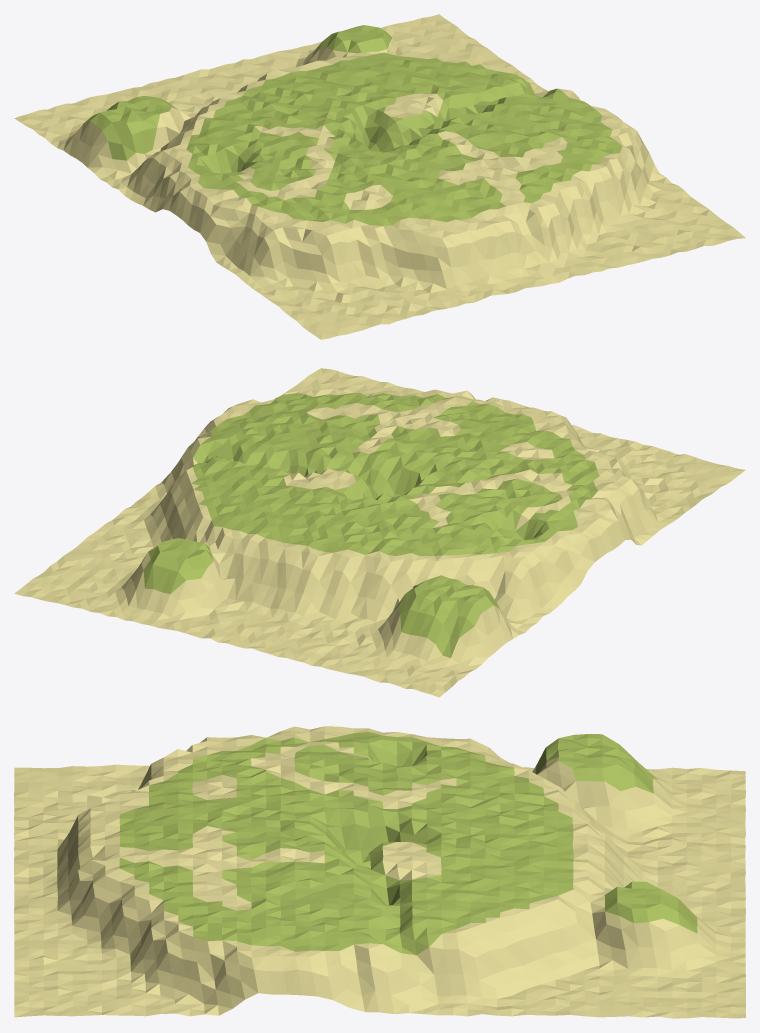
File: Map.fbx
The picture shows the model from 3 angles, top to bottom: view 1: azimuth 30°, elevation 25°; view 2: azimuth 150°, elevation 25°; view 3: azimuth 270°, elevation 25°; orthographic projection. The views are drawn at different scales.
Visible parts, largest first — view 1: Grid; view 2: Grid; view 3: Grid.
Part boxes in pixels (x1,y1,x2,y2): Grid: (14,14,745,339); Grid: (14,368,745,697); Grid: (14,726,745,1018).
Size of the model in its own units: 25000 by 3215 by 31266.
